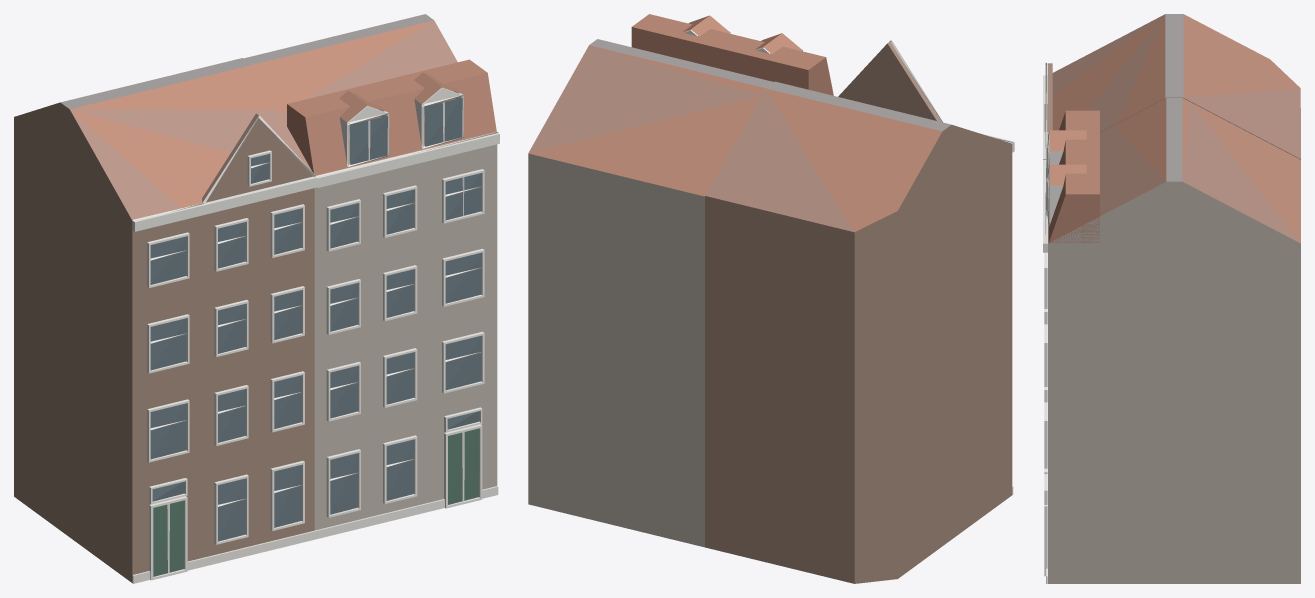
The model's file is chunk-face-effen-2-12-r1.lod2.glb.
3 renders of one model, left to right at view 1: azimuth 30°, elevation 25°; view 2: azimuth 150°, elevation 25°; view 3: azimuth 270°, elevation 25°, orthographic. The views are drawn at different scales.
Visible parts, largest first — view 1: lod2; view 2: lod2; view 3: lod2.
Boxes of the visible parts, <box> form: lod2: <box>14,14,499,583</box>; lod2: <box>528,14,1014,583</box>; lod2: <box>1043,14,1300,583</box>.
Bounding box in the file's own units: 13.88 × 15.91 × 9.03.
